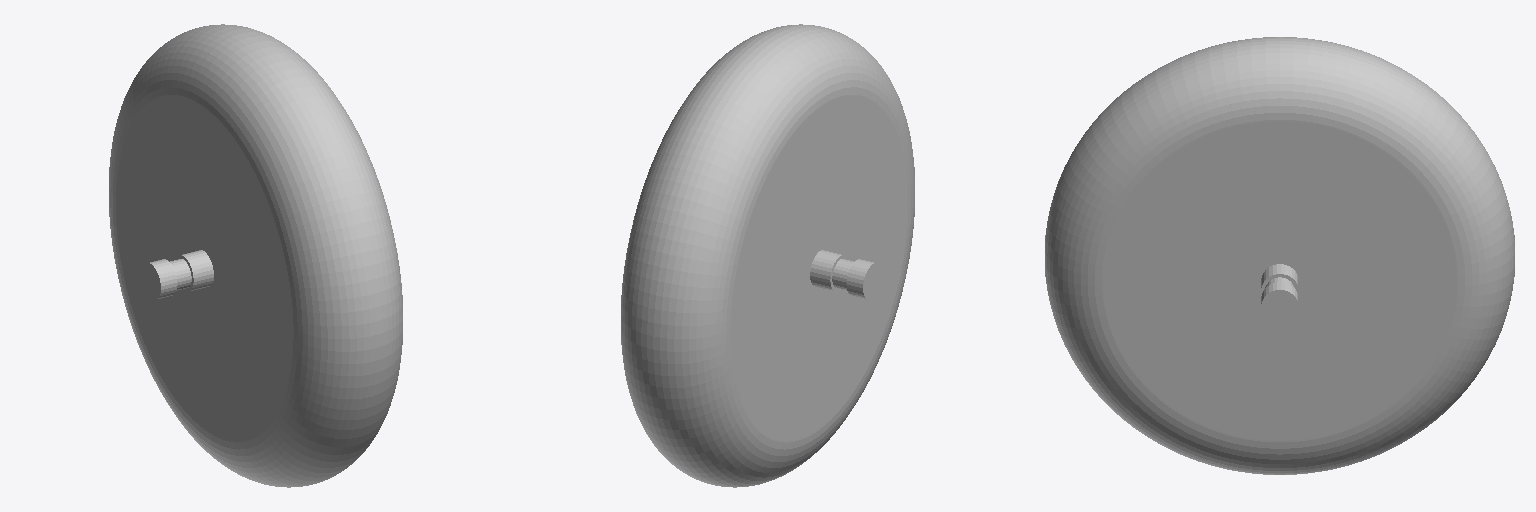
File: mouse_(11).obj
The picture shows the model from 3 angles: view 1: azimuth 30°, elevation 25°; view 2: azimuth 150°, elevation 25°; view 3: azimuth 270°, elevation 25°; orthographic projection.
Parts seen in each view (by area): view 1: Wheel; view 2: Wheel; view 3: Wheel.
Part boxes in pixels (x1,y1,x2,y2): Wheel: (109,24,402,487); Wheel: (621,24,914,487); Wheel: (1045,37,1514,474).
Size of the model in its own units: 1.28 by 2.5 by 2.5.